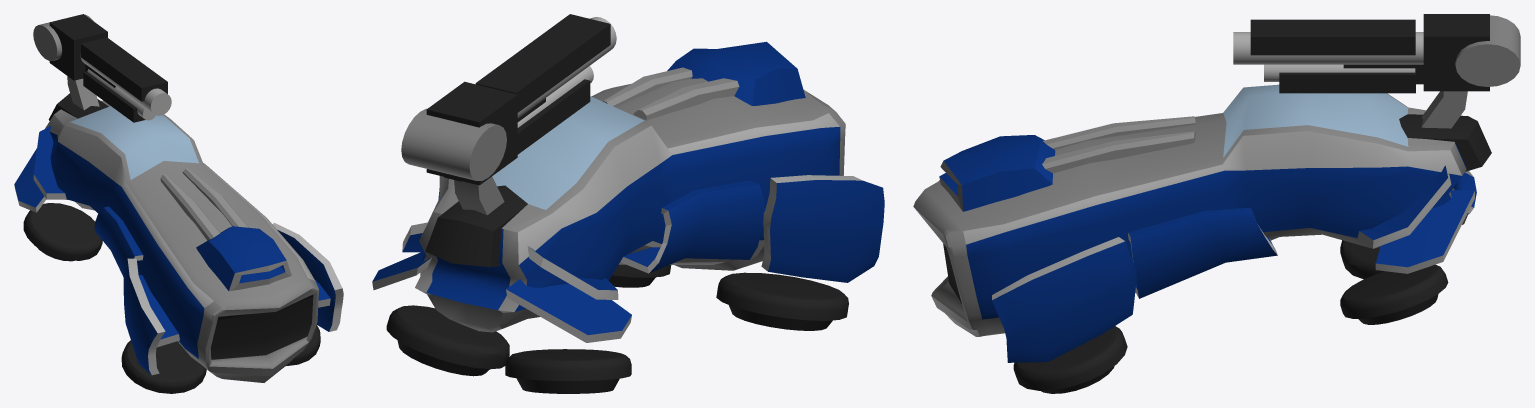
File: car fucy.fbx
3 renders of one model, left to right at view 1: azimuth 30°, elevation 25°; view 2: azimuth 150°, elevation 25°; view 3: azimuth 270°, elevation 25°, orthographic. The views are drawn at different scales.
Visible parts, largest first — view 1: polySurface1; view 2: polySurface1; view 3: polySurface1.
Part boxes in pixels (x1,y1,x2,y2): polySurface1: (14,14,343,393); polySurface1: (372,14,884,393); polySurface1: (913,14,1520,393).
Size of the model in its own units: 3.93 by 4.59 by 7.86.
